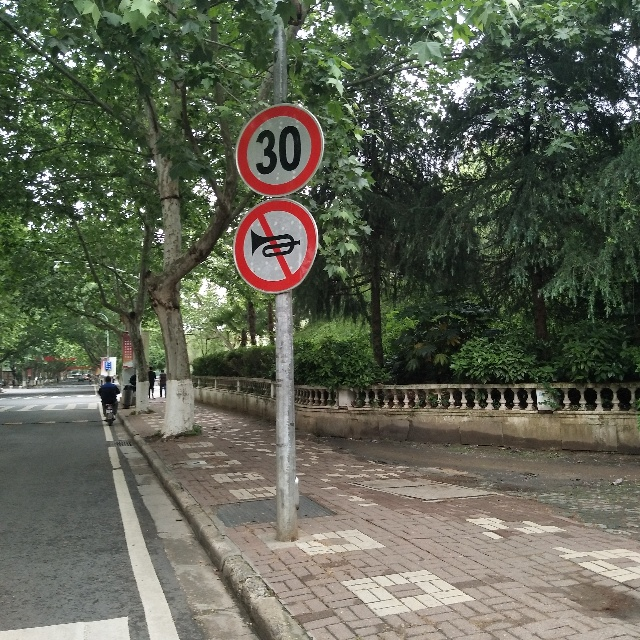nohonk: (235, 201, 313, 285)
